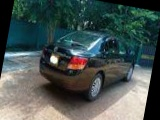car: (34, 23, 139, 107)
